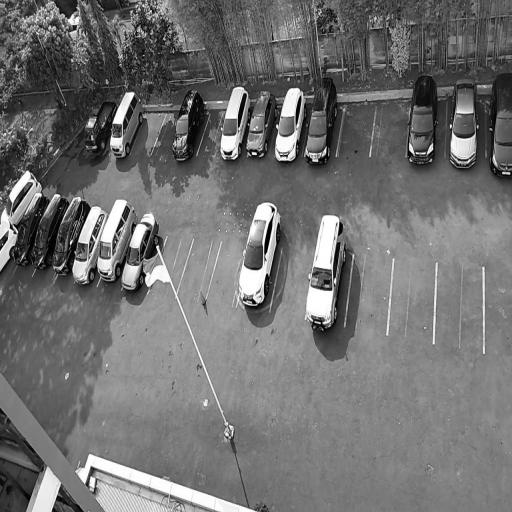Car: (302, 207, 352, 334), (234, 196, 286, 310), (96, 195, 140, 283), (119, 208, 164, 293), (303, 70, 342, 164), (50, 192, 92, 278), (68, 200, 110, 286), (168, 85, 209, 165), (272, 81, 311, 163), (29, 191, 70, 269), (406, 72, 440, 164), (216, 82, 254, 163), (11, 190, 51, 266), (448, 76, 480, 169), (242, 85, 282, 159), (108, 88, 148, 159), (0, 165, 43, 226), (489, 71, 512, 179), (84, 90, 119, 155), (0, 217, 18, 273)
Space Available: (434, 261, 482, 354), (388, 256, 435, 342), (345, 253, 393, 333), (270, 247, 312, 316), (206, 238, 247, 304), (177, 236, 221, 296), (484, 266, 512, 356), (337, 104, 377, 157), (371, 103, 410, 157), (161, 235, 193, 293), (130, 112, 166, 155), (197, 111, 225, 154), (151, 115, 178, 156)
